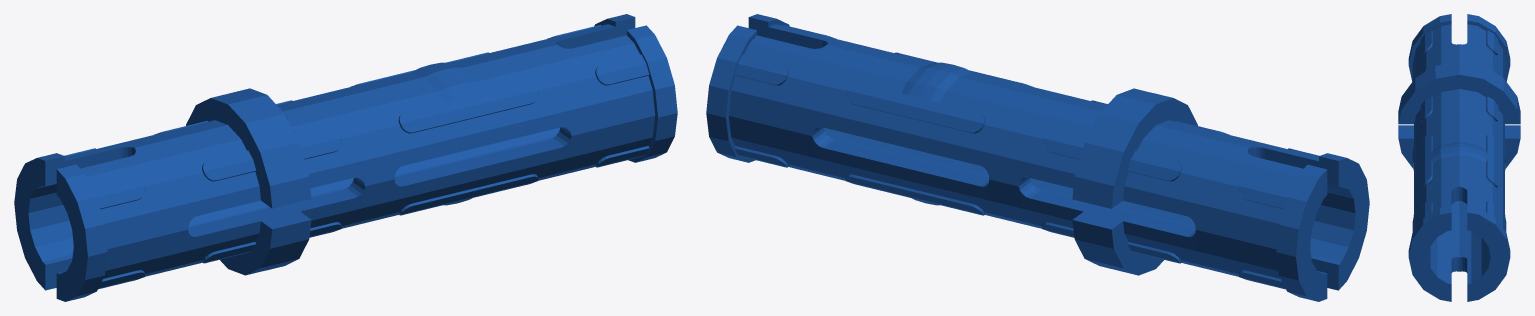
File: peg_friction_3m.obj
The picture shows the model from 3 angles, left to right: view 1: azimuth 30°, elevation 25°; view 2: azimuth 150°, elevation 25°; view 3: azimuth 270°, elevation 25°; orthographic projection. The views are drawn at different scales.
Visible parts, largest first — view 1: peg_friction_3m; view 2: peg_friction_3m; view 3: peg_friction_3m.
Boxes of the visible parts, x1,y1,x2,y2 form: peg_friction_3m: [14, 14, 677, 301]; peg_friction_3m: [706, 14, 1369, 301]; peg_friction_3m: [1398, 14, 1520, 301].
Size of the model in its own units: 24 by 6.4 by 6.24.
